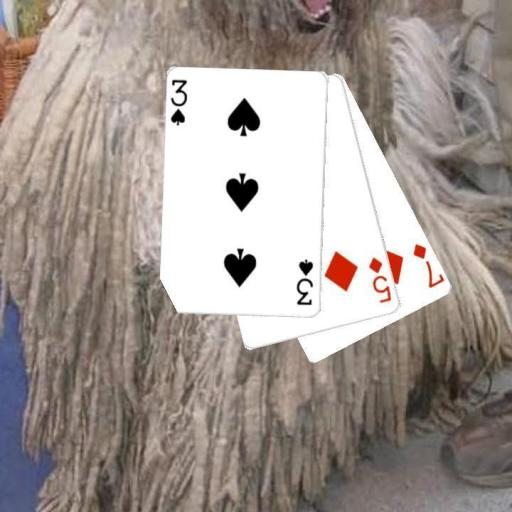card-corner: (410, 240, 444, 290), (366, 254, 393, 305), (168, 76, 189, 127), (294, 257, 315, 307)
